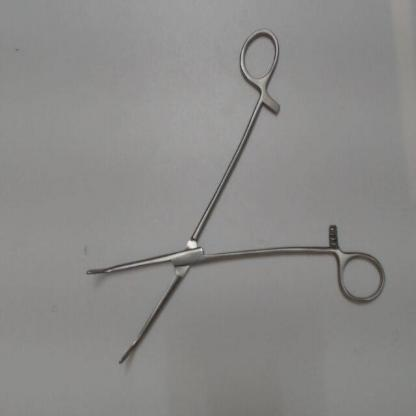Lahey Forceps: (81, 23, 390, 374)
